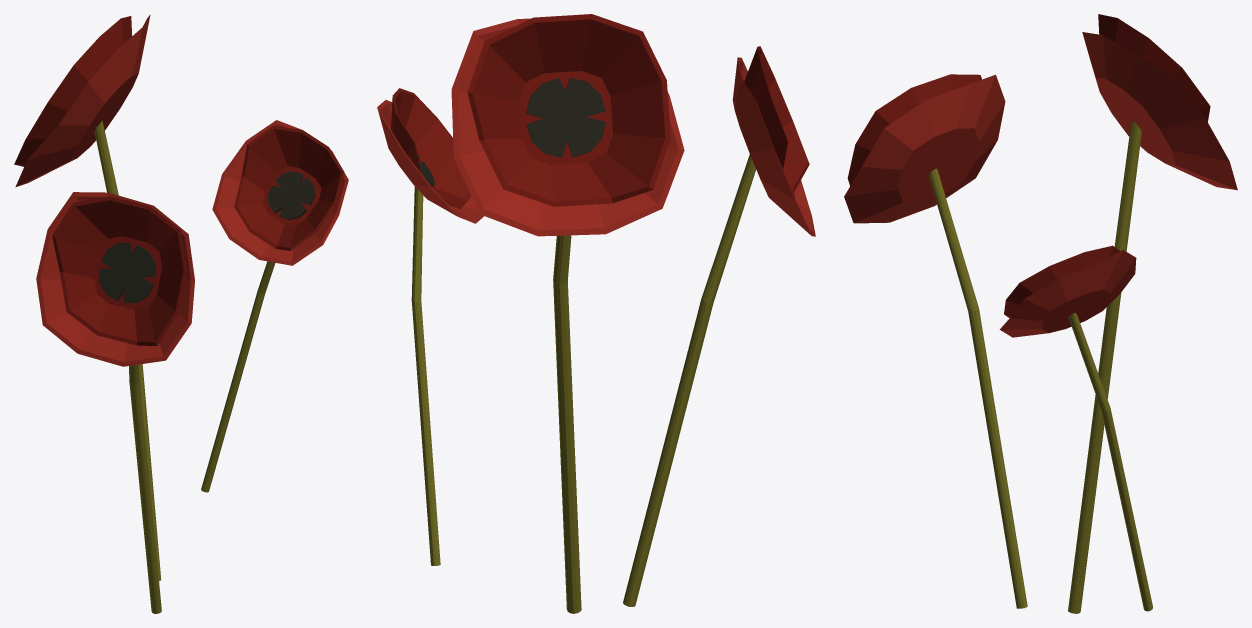
The model's file is Poppies.gltf.
3 renders of one model, left to right at view 1: azimuth 30°, elevation 25°; view 2: azimuth 150°, elevation 25°; view 3: azimuth 270°, elevation 25°, orthographic. The views are drawn at different scales.
Visible parts, largest first — view 1: Poppy3; view 2: Poppy3; view 3: Poppy3.
Part boxes in pixels (bbox=[...]): Poppy3: bbox=[14, 14, 348, 613]; Poppy3: bbox=[377, 14, 815, 613]; Poppy3: bbox=[844, 14, 1237, 613].
Bounding box in the file's own units: 0.1709 × 0.2709 × 0.1657.
3 materials, 3 textured.
